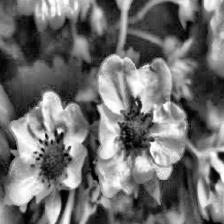Blossom Blight: (29, 128, 72, 189)
